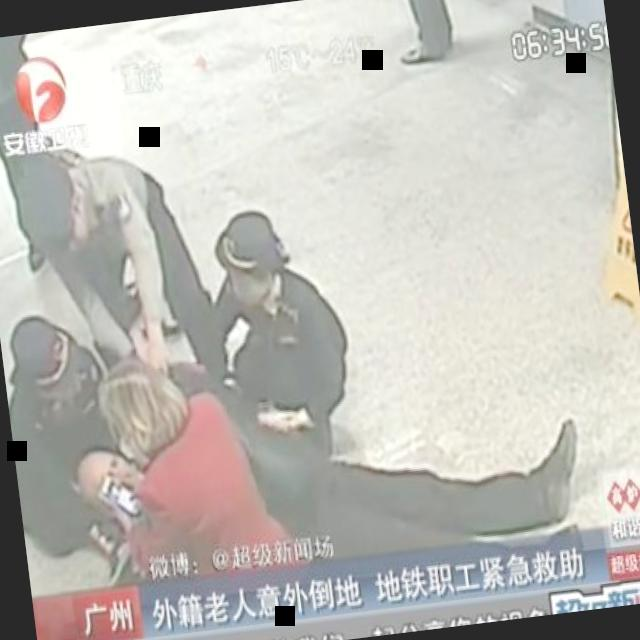Fall-Detected: (46, 374, 603, 632)
